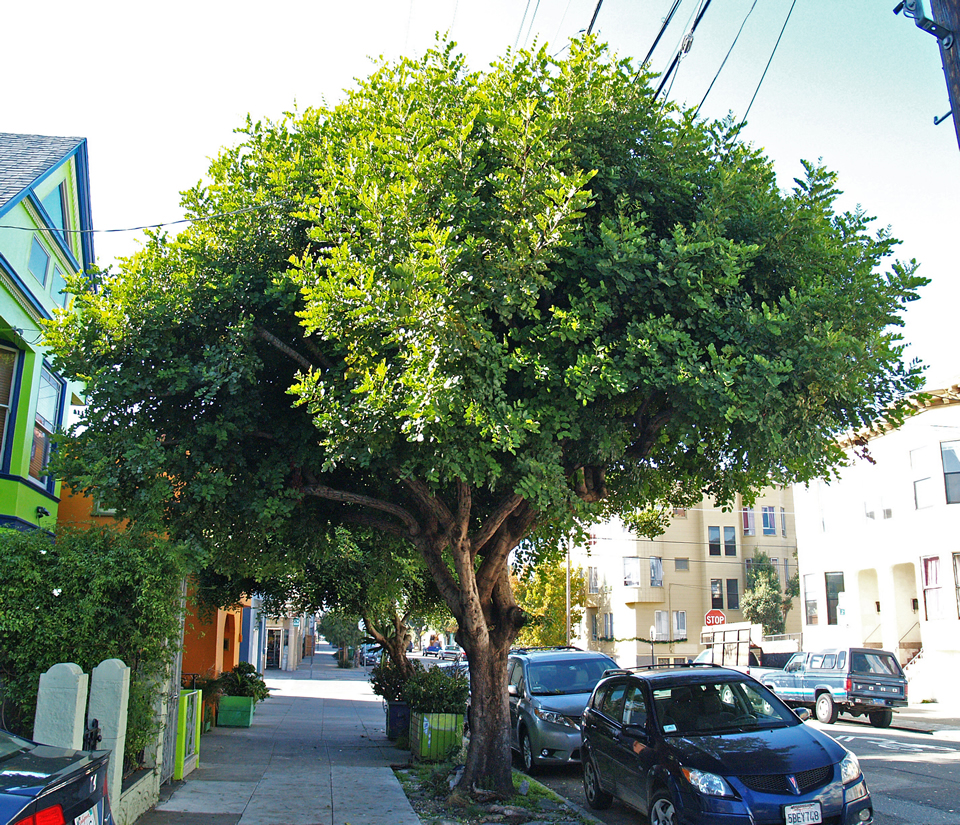tree: (35, 27, 933, 809)
